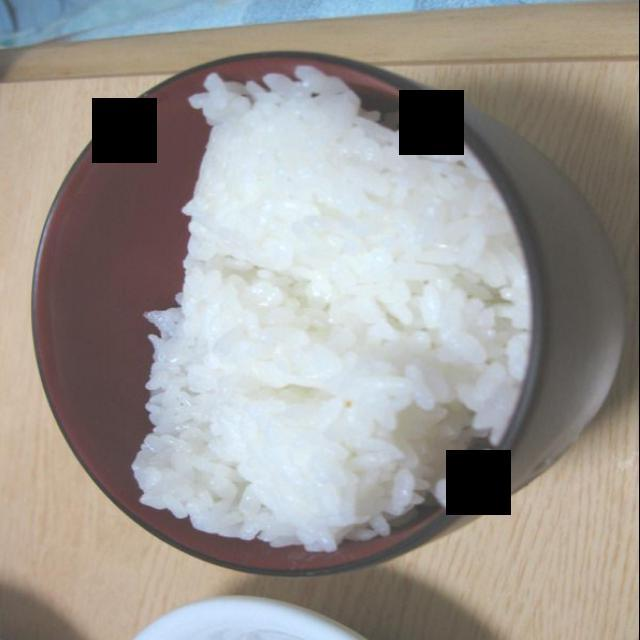rice: (127, 67, 527, 551)
